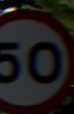Speed limit: (0, 4, 69, 108)
